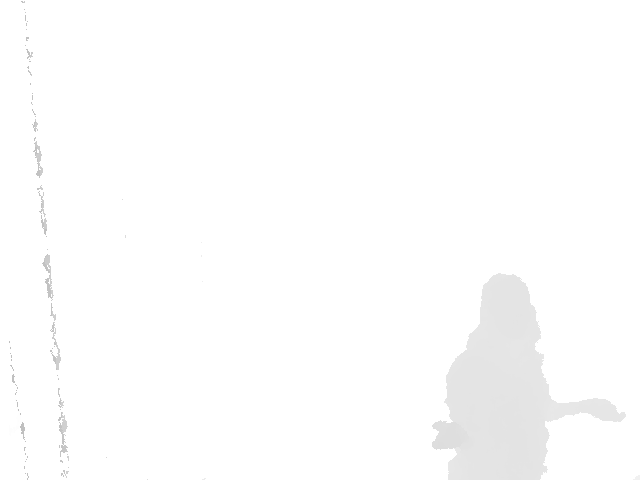head: (479, 274, 540, 344)
person: (432, 275, 627, 480)
